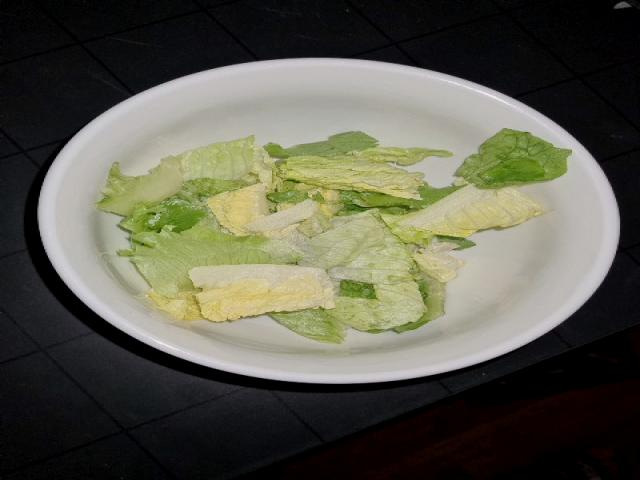kichen waste: (96, 128, 573, 343)
